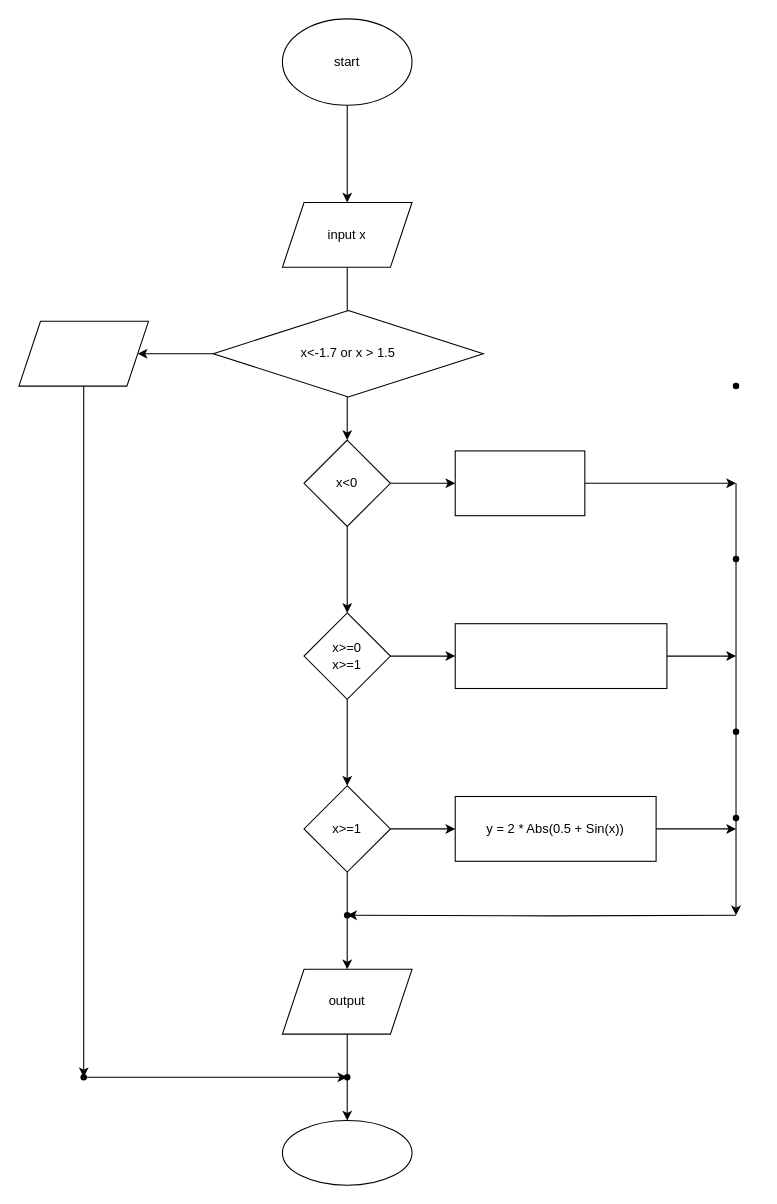
This 777x1204 diagram has some shape labels left out. Each missing label, with the centre of its shape:
end: (x=346, y=1152)
y = (1 + (2 * x) / (1 + x ^ 2)) ^ (1 / 2): (x=560, y=655)
y = (1+x+x^2)/(1+x^3): (x=519, y=483)
Решений нет: (x=83, y=353)
